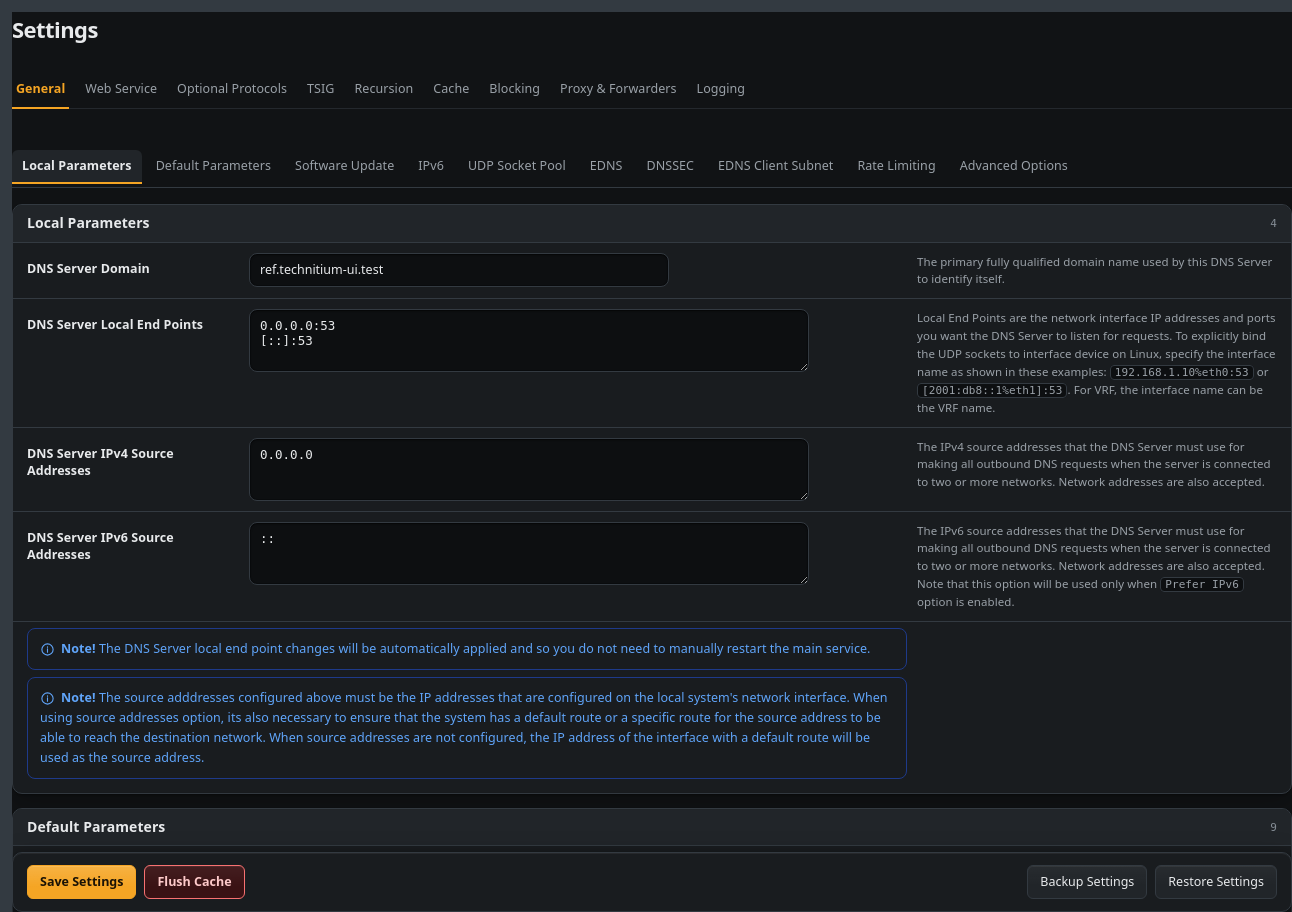
Test case: Settings: saving › on a successful save, the alert is the upstream literal
Click the button "Save Settings".
click(82, 882)  # box left=27, top=865, right=136, bottom=899
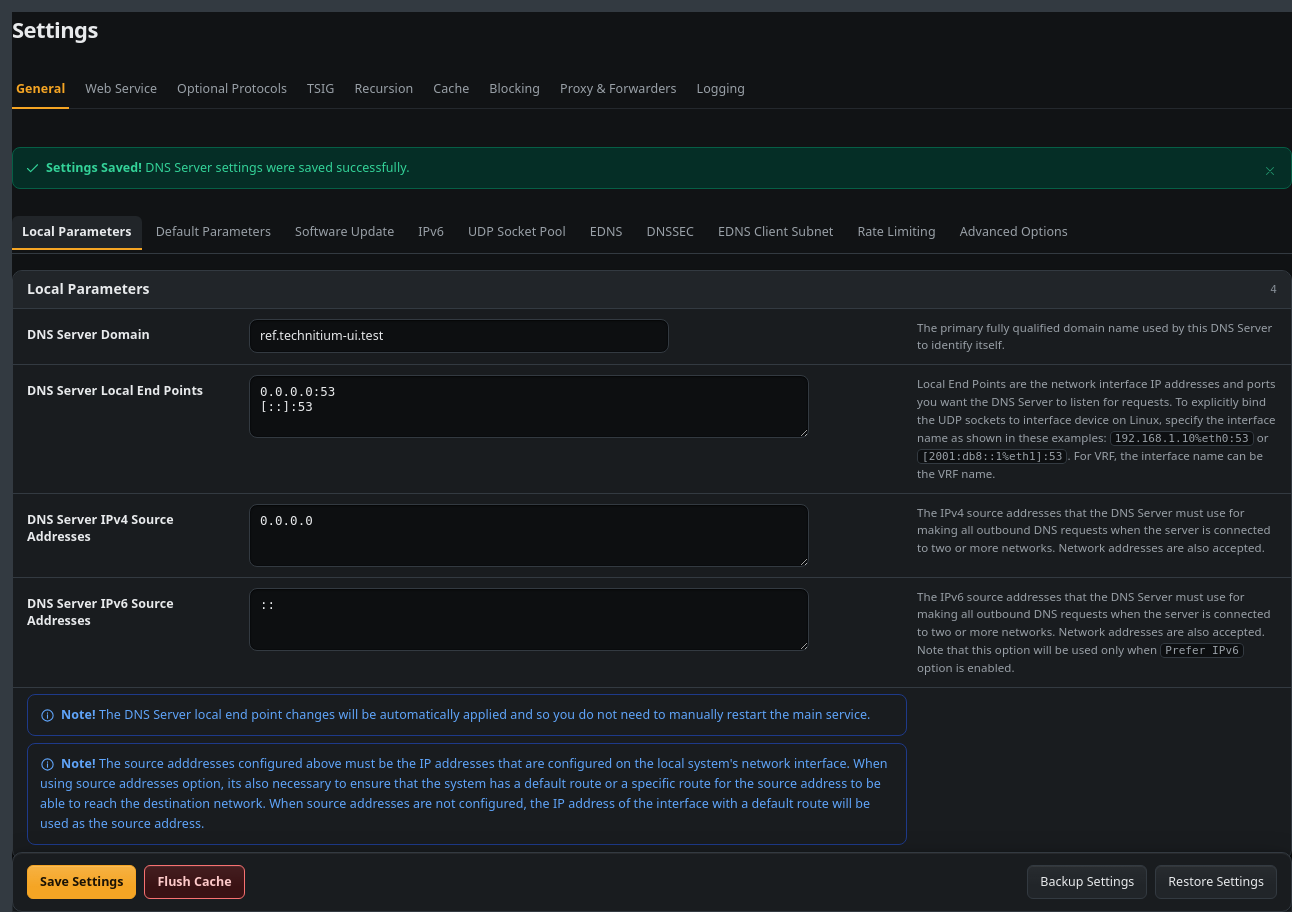
Result: the text "Settings Saved!" is shown at left=46, top=160, right=142, bottom=176
Result: the text "DNS Server settings were saved successfully." is shown at left=145, top=160, right=410, bottom=176
